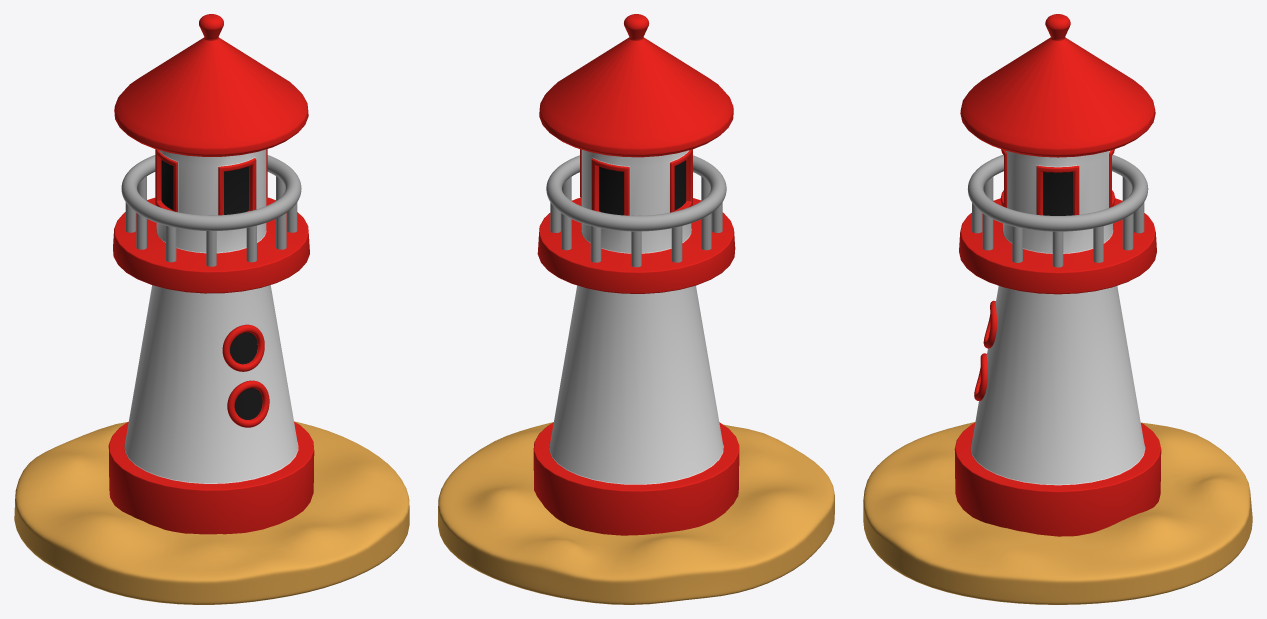
File: lighthouse-3d-icon-793680767770.glb
3 renders of one model, left to right at view 1: azimuth 30°, elevation 25°; view 2: azimuth 150°, elevation 25°; view 3: azimuth 270°, elevation 25°, orthographic.
Parts seen in each view (by area): view 1: Lighthouse 2, Sand, Lighthouse 1, Railing, Windows; view 2: Sand, Lighthouse 2, Lighthouse 1, Railing, Windows; view 3: Sand, Lighthouse 2, Lighthouse 1, Railing, Windows.
Part boxes in pixels (x1,y1,x2,y2): Lighthouse 2: [108, 14, 314, 534]; Sand: [14, 421, 409, 604]; Lighthouse 1: [124, 149, 298, 483]; Railing: [121, 155, 301, 266]; Windows: [161, 160, 262, 419]; Sand: [438, 422, 834, 604]; Lighthouse 2: [533, 14, 739, 535]; Lighthouse 1: [549, 150, 723, 484]; Railing: [546, 155, 726, 267]; Windows: [599, 160, 686, 215]; Sand: [863, 422, 1252, 604]; Lighthouse 2: [954, 14, 1161, 536]; Lighthouse 1: [970, 150, 1145, 485]; Railing: [967, 155, 1148, 267]; Windows: [979, 171, 1072, 387].
Size of the model in its own units: 1.36 by 1.97 by 1.36.
